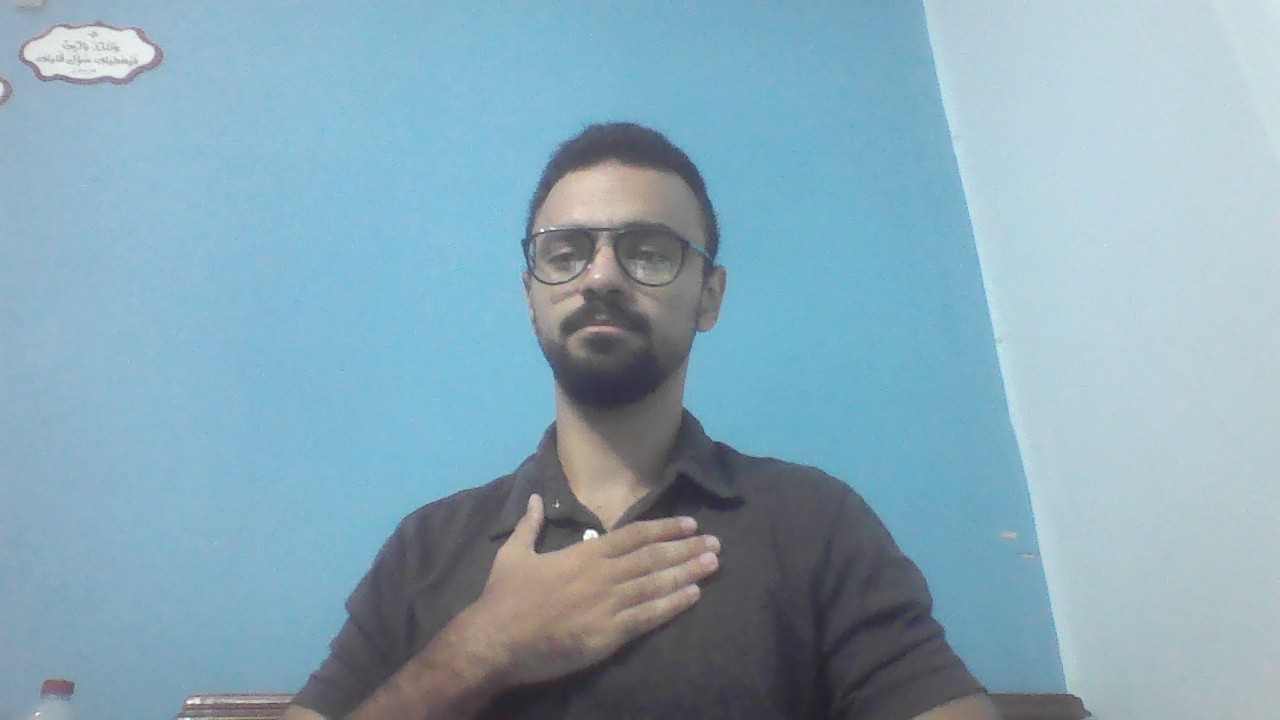please: (479, 489, 727, 682)
